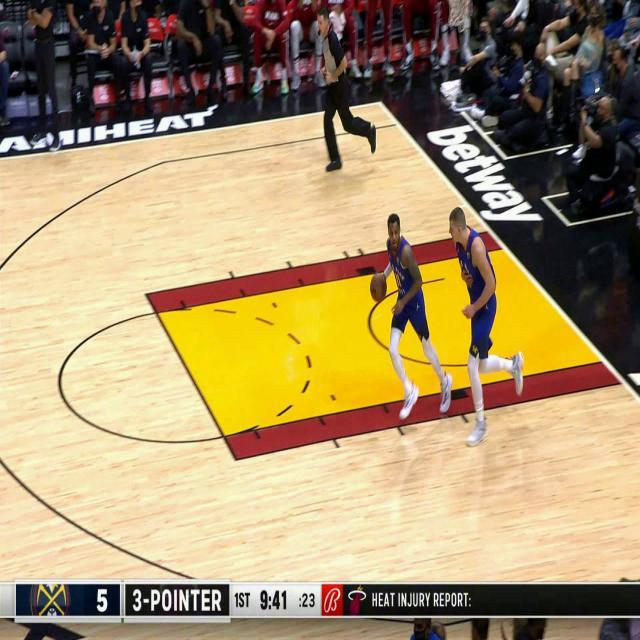rim: (370, 273, 388, 301)
